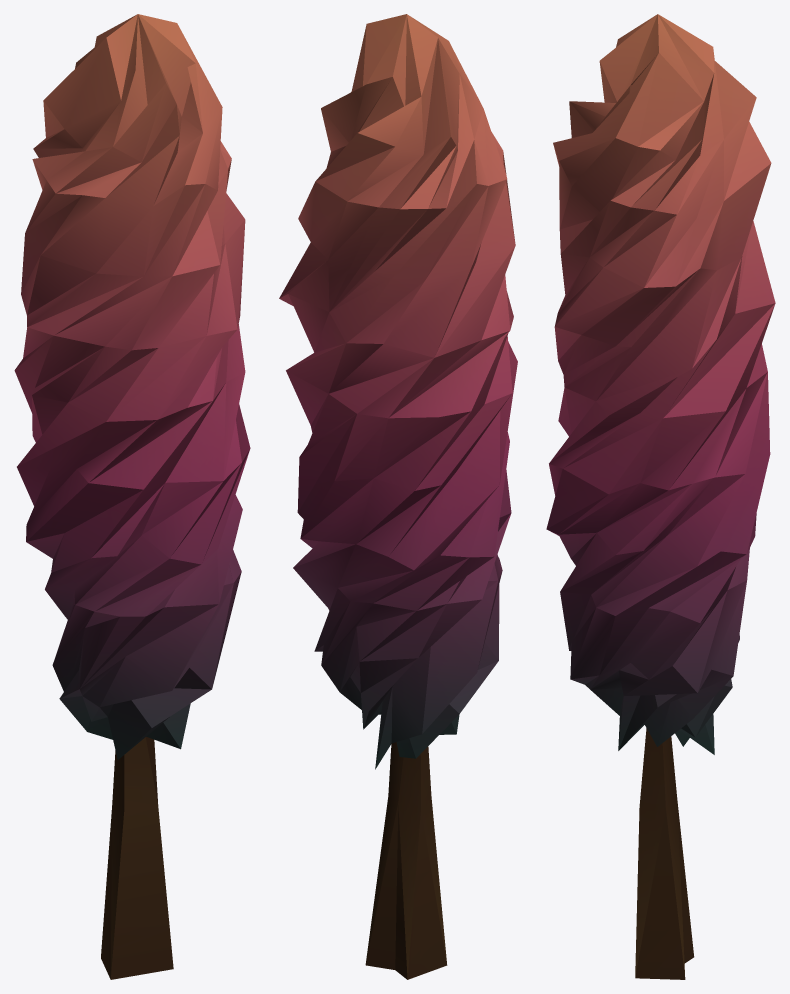
Rendered from Tree_5L.fbx.
3 views of the same model, side by side, from view 1: azimuth 30°, elevation 25°; view 2: azimuth 150°, elevation 25°; view 3: azimuth 270°, elevation 25° (orthographic).
Visible parts, largest first — view 1: Tree_5L; view 2: Tree_5L; view 3: Tree_5L.
Part boxes in pixels (x1,y1,x2,y2): Tree_5L: (14, 14, 250, 979); Tree_5L: (279, 14, 517, 979); Tree_5L: (546, 14, 775, 979).
Size of the model in its own units: 406 by 1692 by 369.
Materials: 1 (1 with a texture image).
